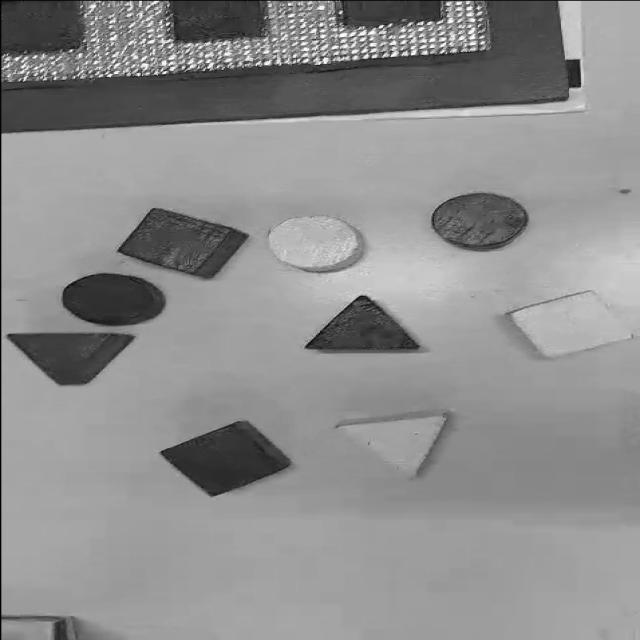bcircle: (61, 272, 165, 326)
bcube: (161, 421, 291, 496)
btriangle: (305, 296, 420, 352)
mtcube: (0, 0, 83, 54), (171, 0, 267, 42), (338, 0, 441, 27)
rcircle: (432, 193, 528, 250)
rcube: (120, 208, 249, 277)
rtriangle: (6, 331, 136, 386)
ycircle: (267, 215, 365, 272)
ycube: (502, 290, 634, 359)
ytriangle: (334, 409, 449, 479)
